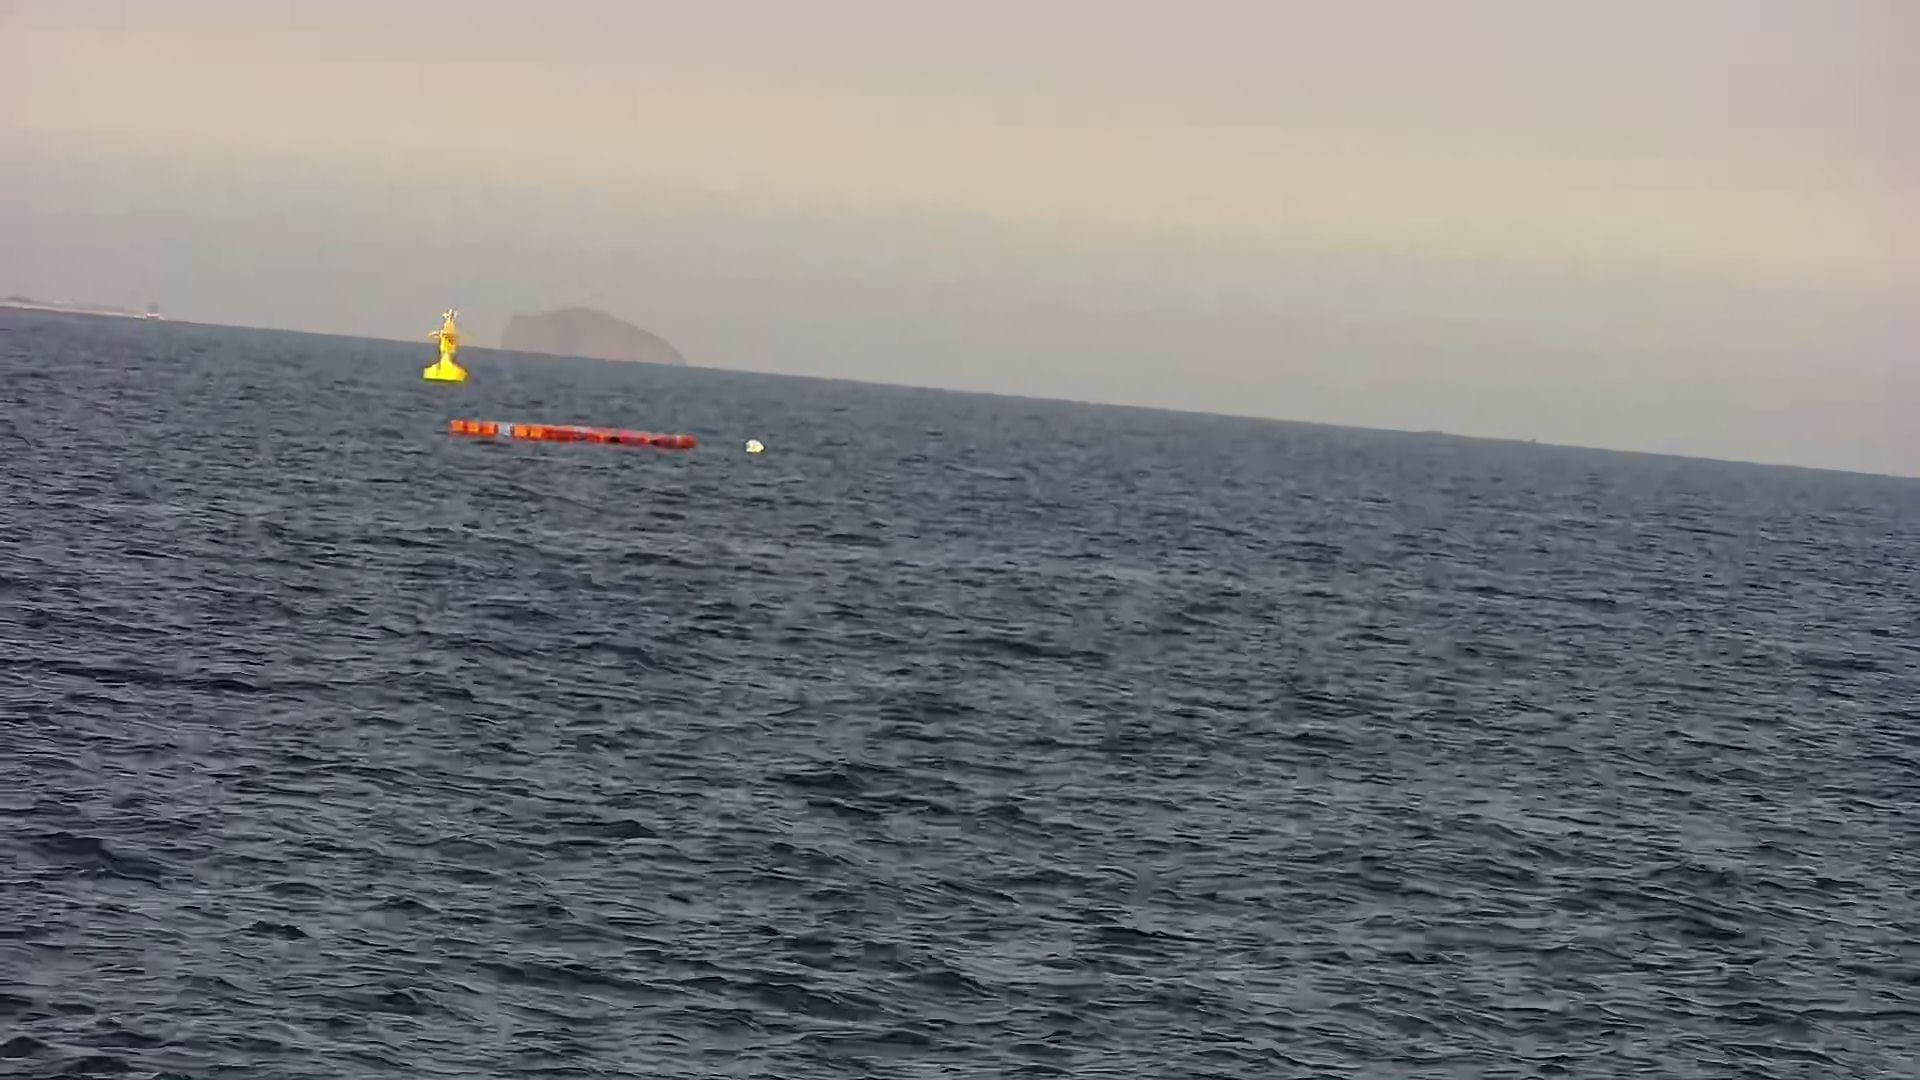ball: (738, 429, 774, 458)
buoy: (415, 301, 483, 389)
platform: (440, 397, 698, 455)
